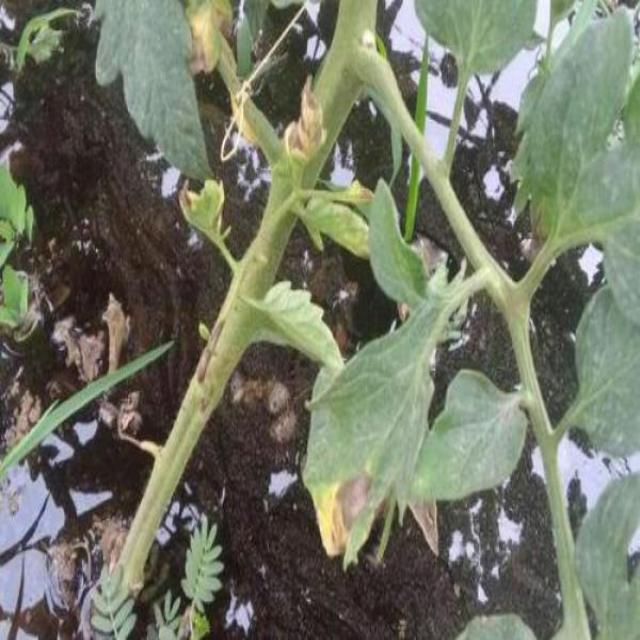Early_blight: (312, 468, 379, 558), (186, 1, 235, 77), (280, 77, 325, 159)
